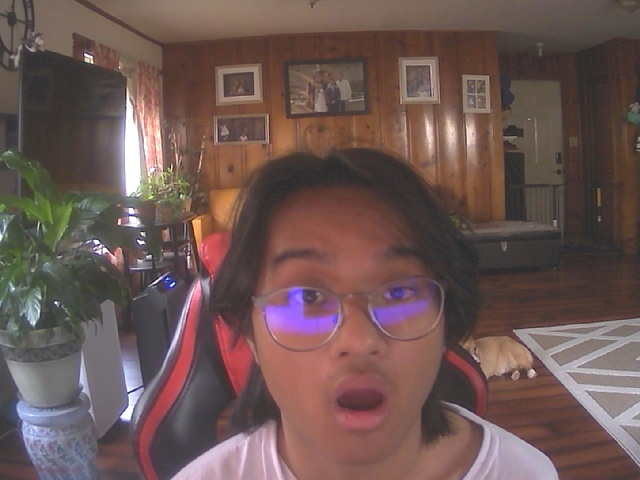fear: (234, 155, 464, 463)
